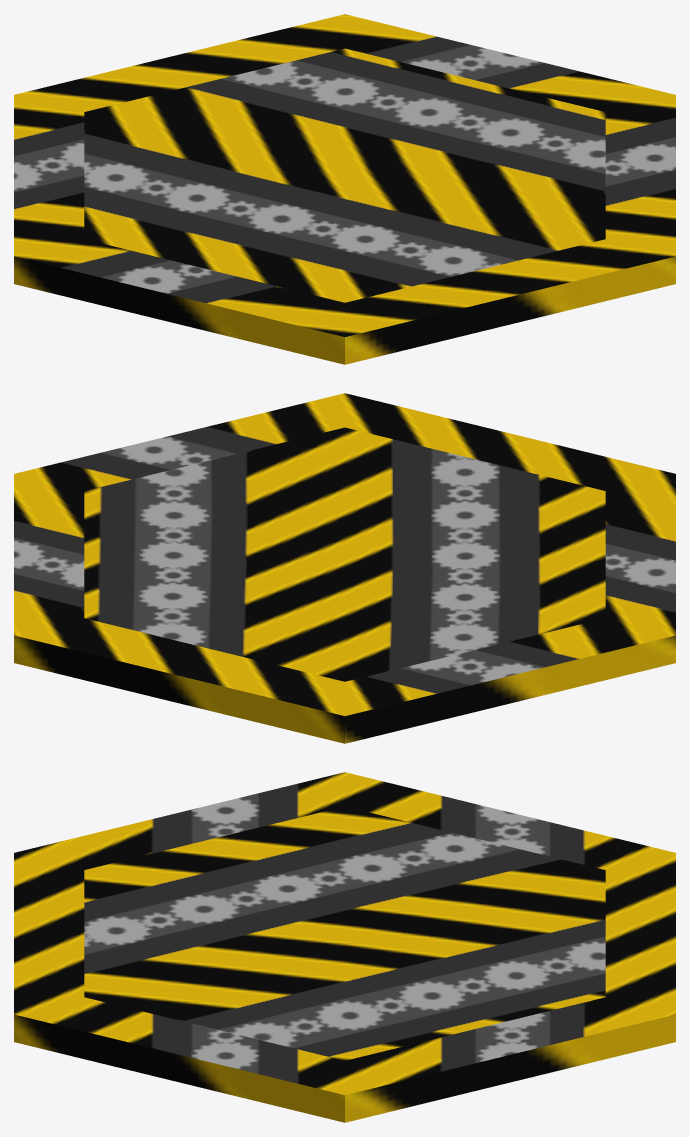
Rendered from fan3.fbx.
3 views of the same model, one above another, from view 1: azimuth 30°, elevation 25°; view 2: azimuth 150°, elevation 25°; view 3: azimuth 270°, elevation 25° (orthographic).
Visible parts, largest first — view 1: Fencing, Frame; view 2: Fencing, Frame; view 3: Fencing, Frame.
Part boxes in pixels (x1,y1,x2,y2): Fencing: [84, 48, 605, 302]; Frame: [14, 14, 675, 364]; Fencing: [84, 427, 605, 681]; Frame: [14, 393, 675, 743]; Fencing: [84, 806, 605, 1060]; Frame: [14, 772, 675, 1122].
Bounding box in the file's own units: 9.4 × 0.3918 × 8.14.
